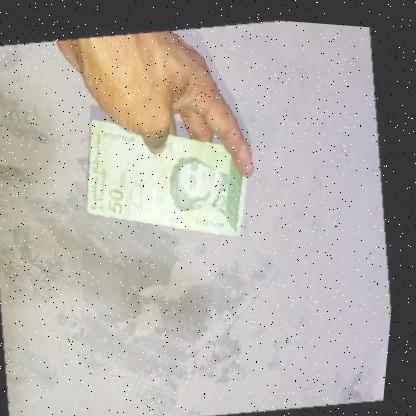fifty-front-vef: (80, 102, 260, 247)
